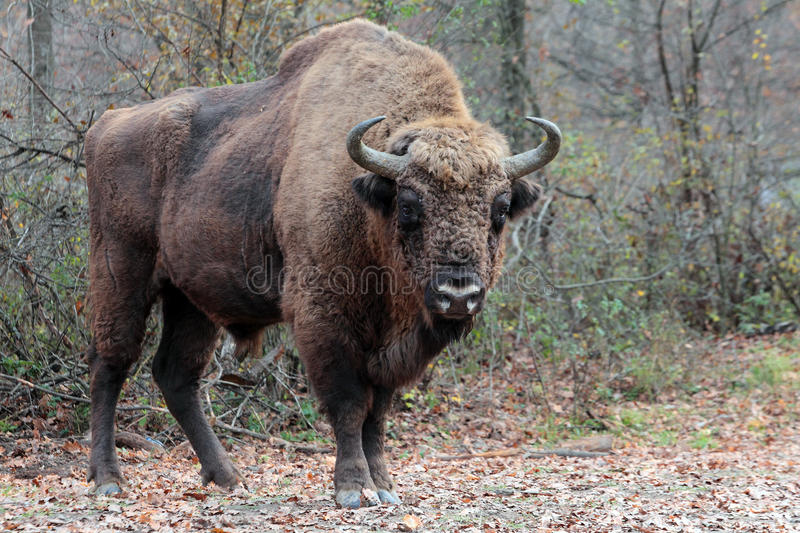zubr: (34, 3, 588, 533)
